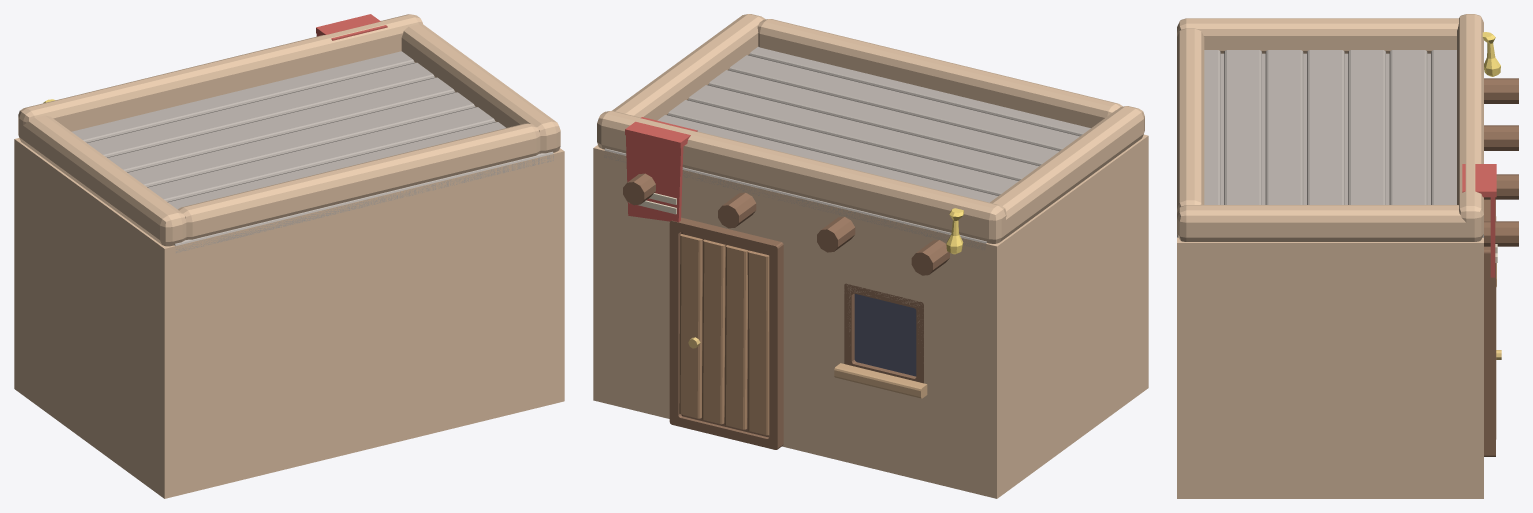
File: Kit_Facade_Adobe.fbx
3 views of the same model, side by side, from view 1: azimuth 30°, elevation 25°; view 2: azimuth 150°, elevation 25°; view 3: azimuth 270°, elevation 25° (orthographic). The views are drawn at different scales.
Parts seen in each view (by area): view 1: Kit_Facade_Adobe; view 2: Kit_Facade_Adobe; view 3: Kit_Facade_Adobe.
Part boxes in pixels (left/top/right/bottom): Kit_Facade_Adobe: left=14, top=14, right=564, bottom=498; Kit_Facade_Adobe: left=593, top=14, right=1148, bottom=498; Kit_Facade_Adobe: left=1177, top=14, right=1518, bottom=498.
Size of the model in its own units: 4 by 2.7 by 2.89.
